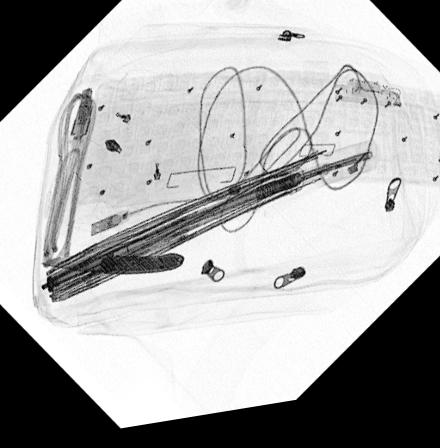Knife: (37, 252, 186, 279)
